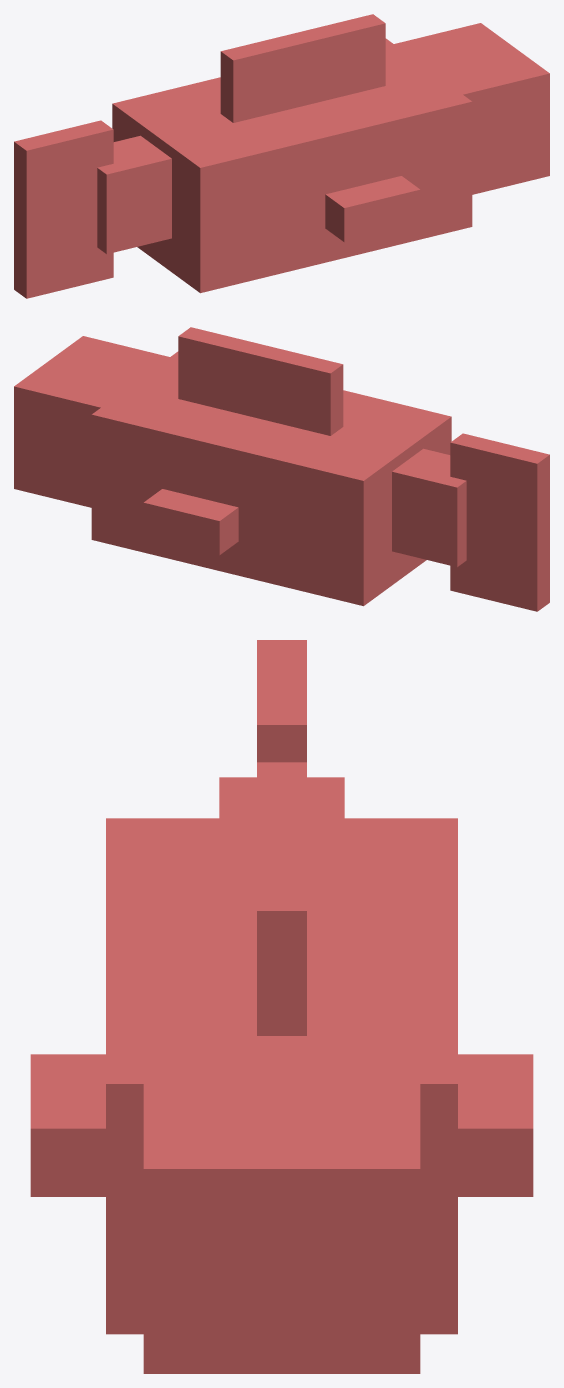
Rendered from fish_coral_wrasse.glb.
3 views of the same model, one above another, from view 1: azimuth 30°, elevation 25°; view 2: azimuth 150°, elevation 25°; view 3: azimuth 270°, elevation 25° (orthographic). The views are drawn at different scales.
Visible parts, largest first — view 1: species.coral_wrasse; view 2: species.coral_wrasse; view 3: species.coral_wrasse.
Boxes of the visible parts, x1,y1,x2,y2 form: species.coral_wrasse: [14, 14, 549, 298]; species.coral_wrasse: [14, 327, 549, 611]; species.coral_wrasse: [30, 640, 533, 1373].
Bounding box in the file's own units: 0.3 × 0.1088 × 0.1319.
